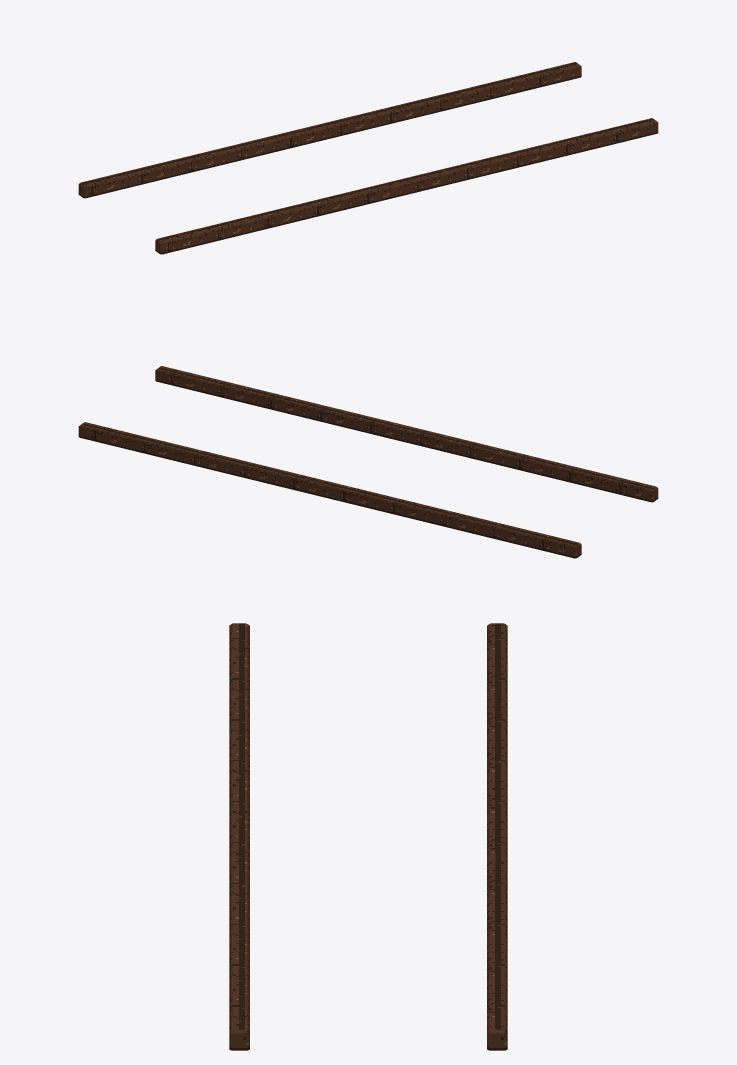
The model's file is dgn.ceiling__flat_4x3.glb.
3 views of the same model, one above another, from view 1: azimuth 30°, elevation 25°; view 2: azimuth 150°, elevation 25°; view 3: azimuth 270°, elevation 25° (orthographic). The views are drawn at different scales.
Visible parts, largest first — view 1: kit_beams; view 2: kit_beams; view 3: kit_beams.
Part boxes in pixels (<box>): kit_beams: <box>78,62,658,254</box>; kit_beams: <box>78,366,658,558</box>; kit_beams: <box>229,623,507,1050</box>.
Size of the model in its own units: 15 by 0.34 by 11.
2 materials, 2 textured.
